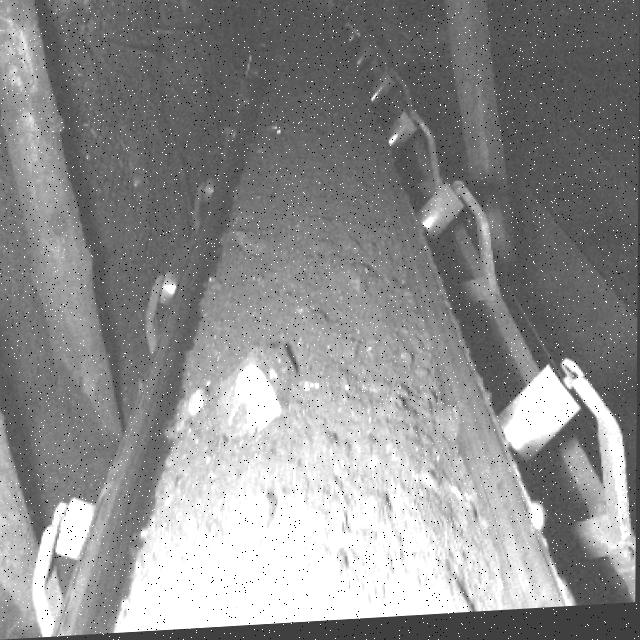large_sized_coal: (214, 346, 299, 443)
